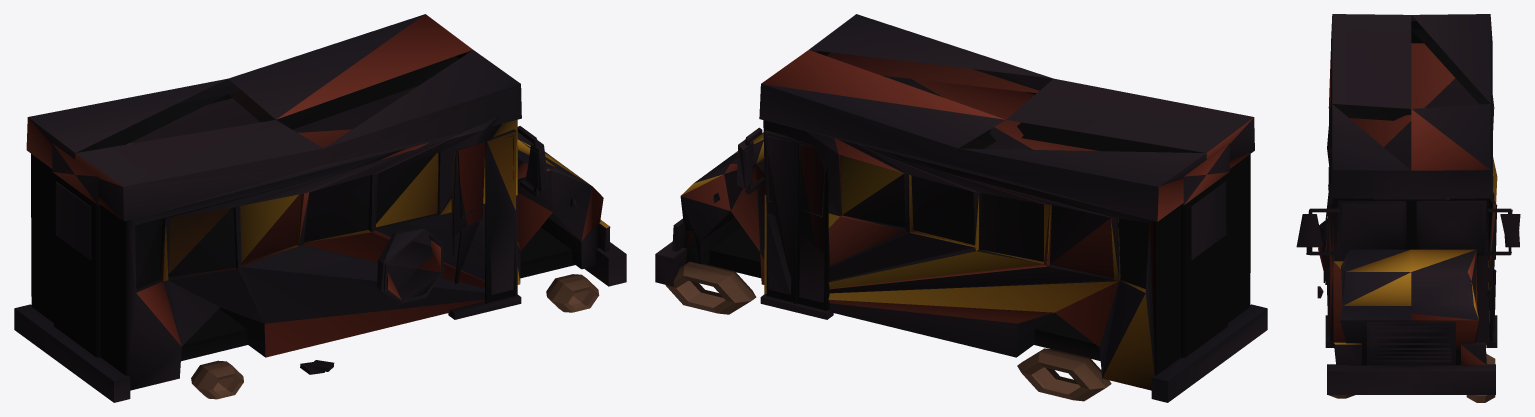
File: veh.school-bus.burned.lod2.glb
The picture shows the model from 3 angles, left to right: view 1: azimuth 30°, elevation 25°; view 2: azimuth 150°, elevation 25°; view 3: azimuth 270°, elevation 25°; orthographic projection. The views are drawn at different scales.
Parts seen in each view (by area): view 1: body, wheelRR, wheelFR; view 2: body, wheelRL, wheelFL; view 3: body, wheelFL.
Boxes of the visible parts, bbox=[...] form: body: bbox=[14, 14, 626, 402]; wheelRR: bbox=[191, 360, 243, 399]; wheelFR: bbox=[546, 274, 599, 312]; body: bbox=[655, 14, 1267, 402]; wheelRL: bbox=[1017, 348, 1111, 401]; wheelFL: bbox=[665, 261, 756, 314]; body: bbox=[1296, 14, 1520, 394]; wheelFL: bbox=[1466, 354, 1495, 402].
Size of the model in its own units: 7.49 by 3.38 by 3.42.
